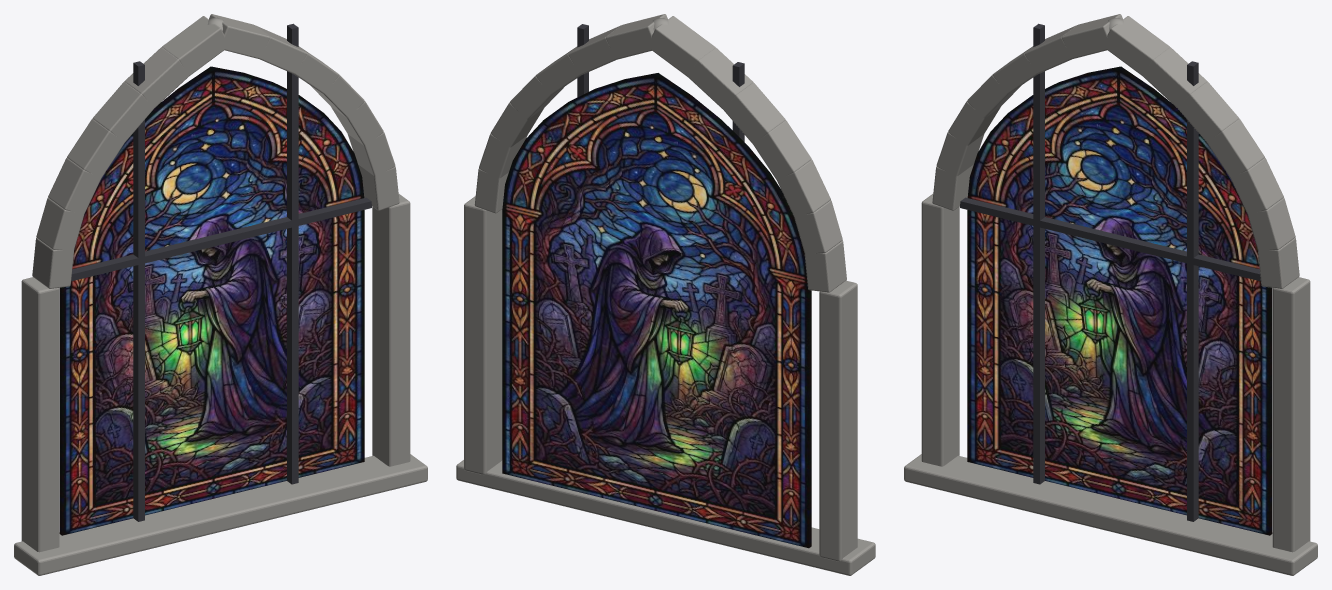
File: window_deco_stained_lantern.glb
3 renders of one model, left to right at view 1: azimuth 30°, elevation 25°; view 2: azimuth 150°, elevation 25°; view 3: azimuth 330°, elevation 25°, orthographic.
Parts seen in each view (by area): view 1: GD_window_deco_stained_lantern__m1, GD_window_deco_stained_lantern__m0, GD_window_deco_stained_lantern__m2; view 2: GD_window_deco_stained_lantern__m1, GD_window_deco_stained_lantern__m0, GD_window_deco_stained_lantern__m2; view 3: GD_window_deco_stained_lantern__m1, GD_window_deco_stained_lantern__m0, GD_window_deco_stained_lantern__m2.
Boxes of the visible parts, <box> form: GD_window_deco_stained_lantern__m1: <box>59,66,364,535</box>; GD_window_deco_stained_lantern__m0: <box>14,14,427,575</box>; GD_window_deco_stained_lantern__m2: <box>71,23,371,521</box>; GD_window_deco_stained_lantern__m1: <box>502,73,811,548</box>; GD_window_deco_stained_lantern__m0: <box>456,14,875,575</box>; GD_window_deco_stained_lantern__m2: <box>577,24,744,141</box>; GD_window_deco_stained_lantern__m1: <box>967,66,1272,535</box>; GD_window_deco_stained_lantern__m0: <box>904,14,1317,575</box>; GD_window_deco_stained_lantern__m2: <box>960,23,1260,521</box>.
Bounding box in the file's own units: 1.78 × 2.17 × 0.21.
3 materials, 1 textured.
